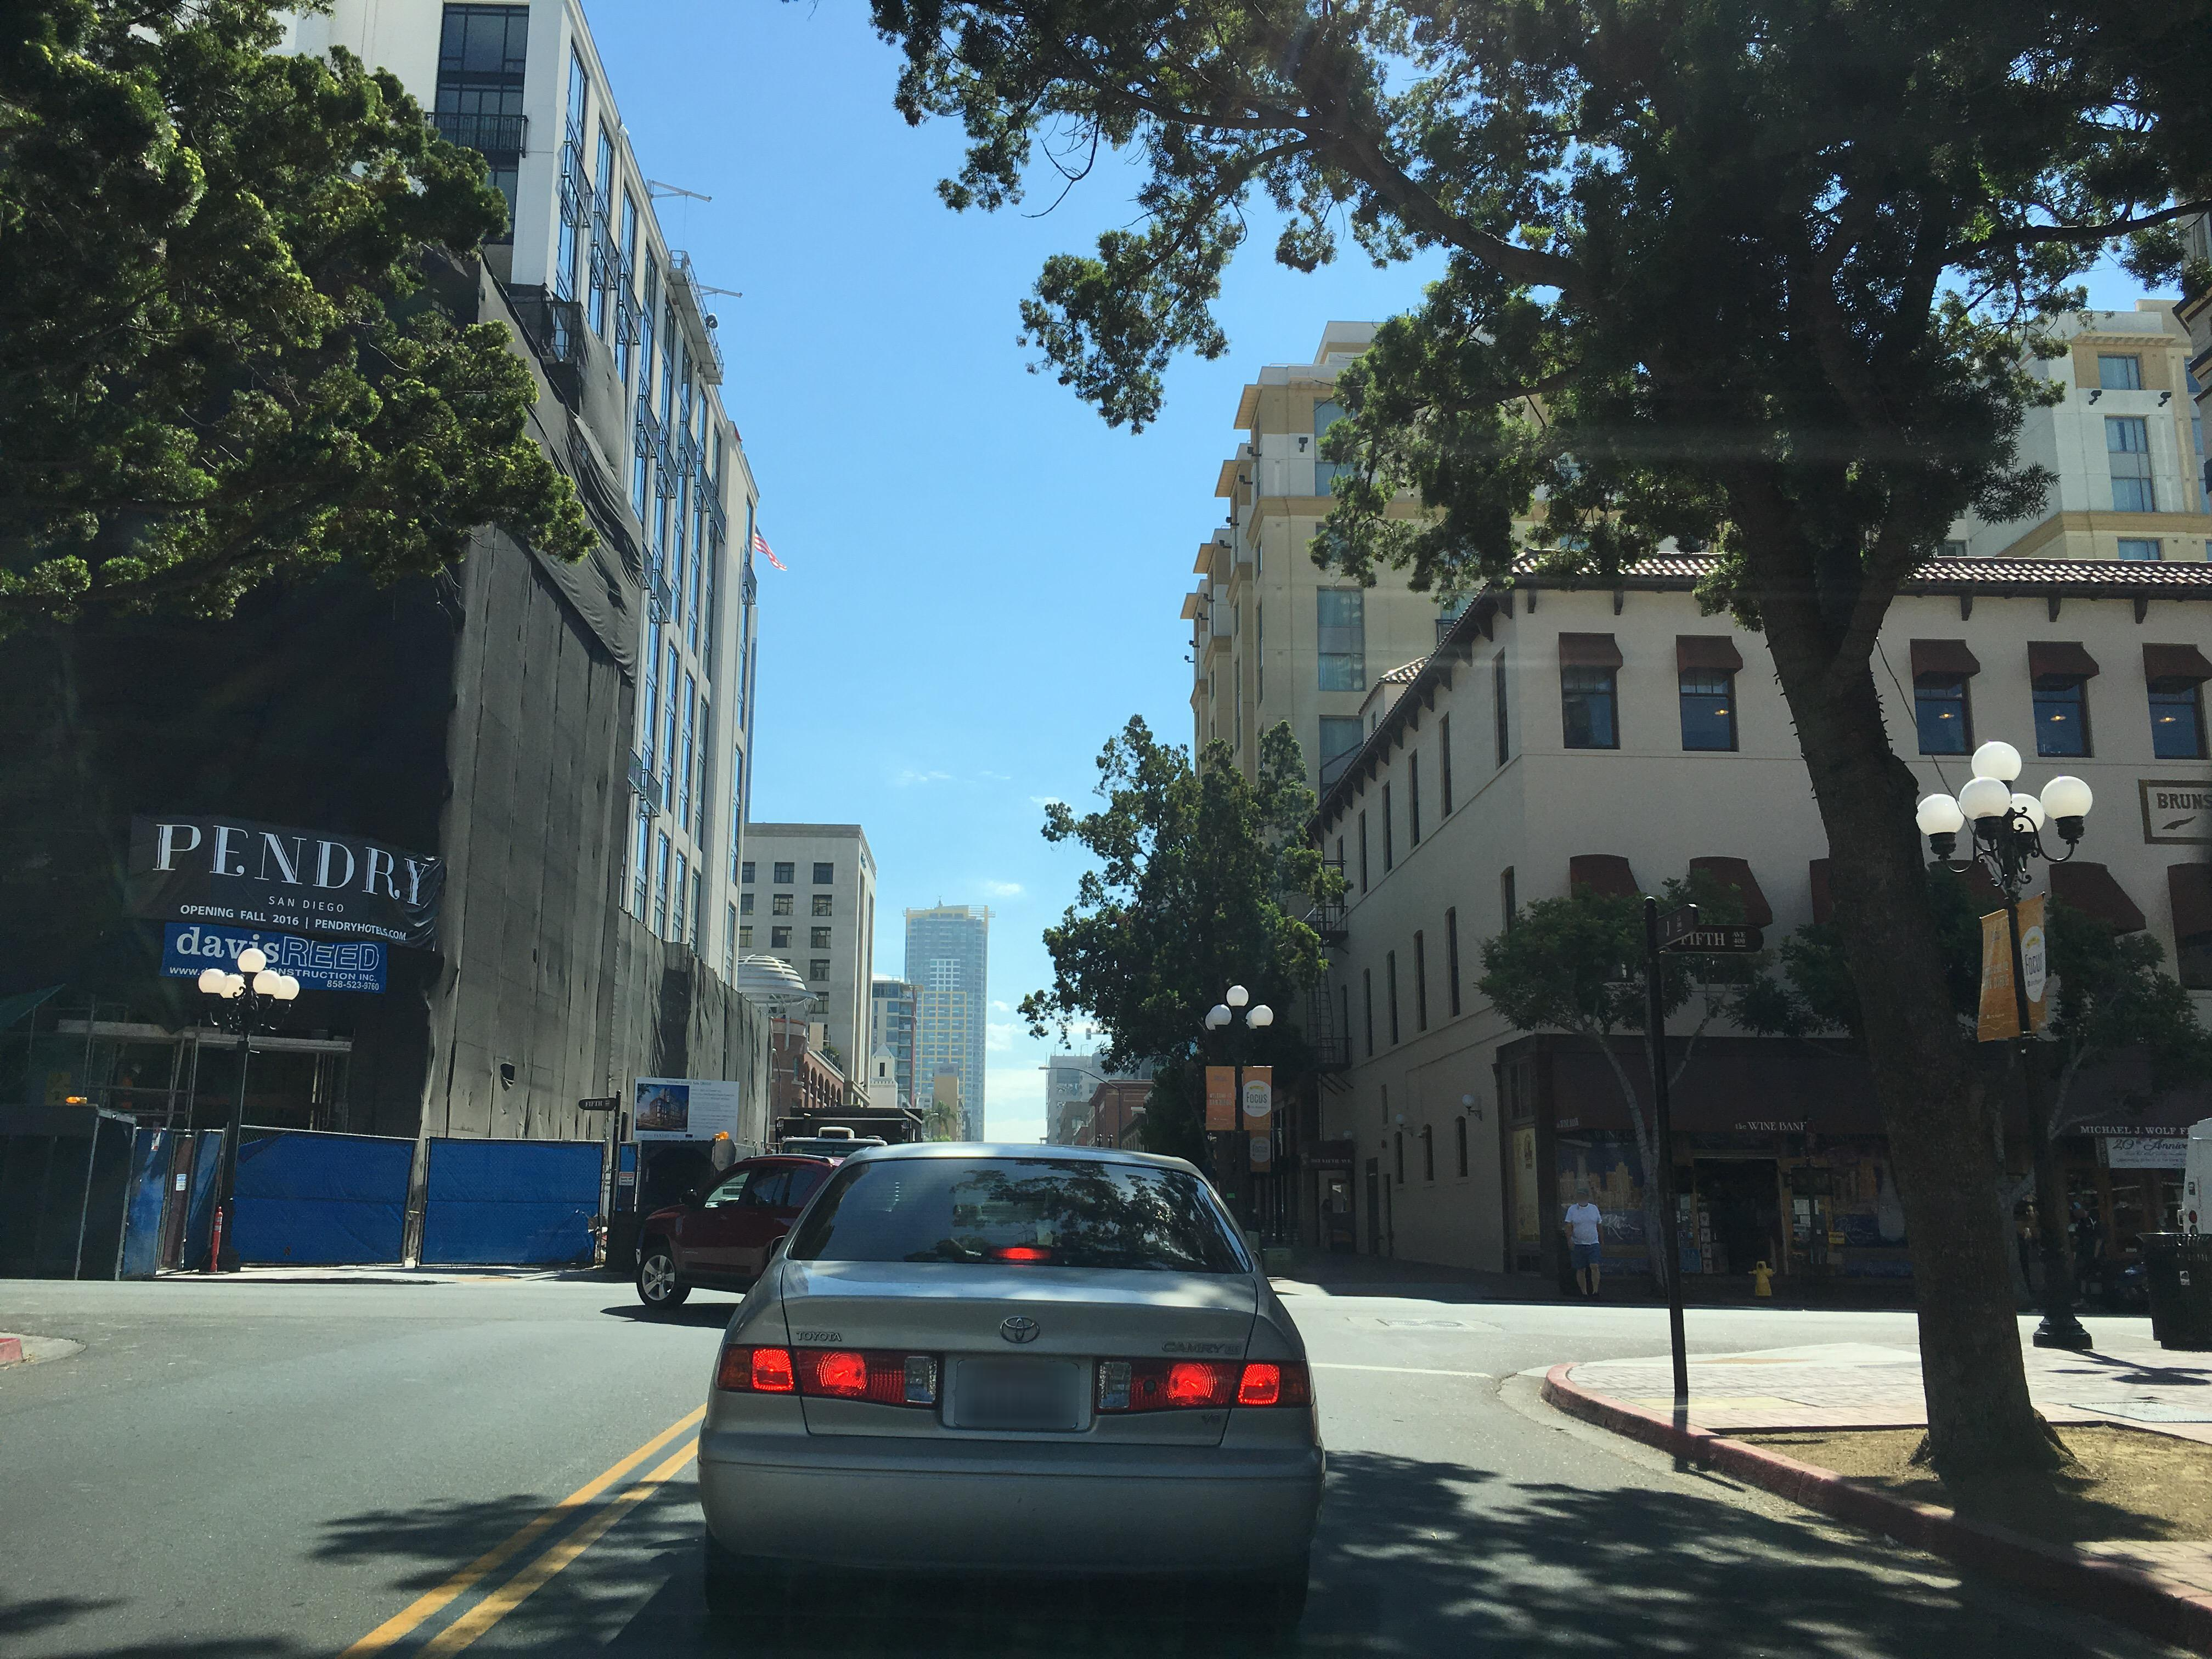vinyl banner: (103, 781, 449, 946), (153, 904, 394, 1009)
